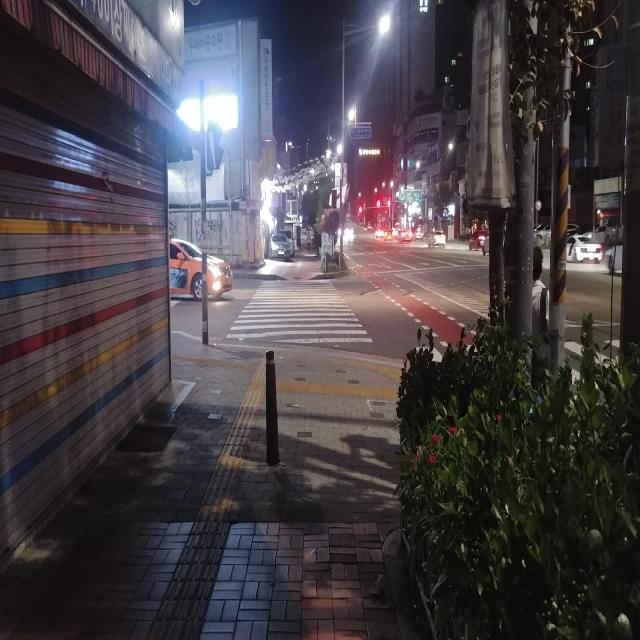횡단보도: (226, 279, 372, 342)
